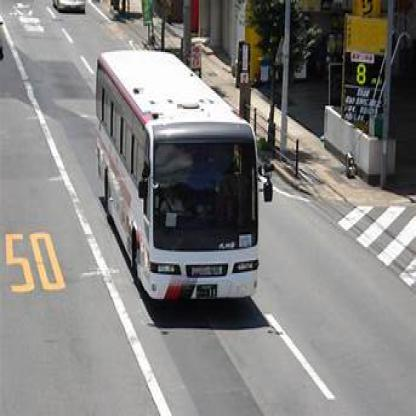bus: (94, 53, 263, 307)
